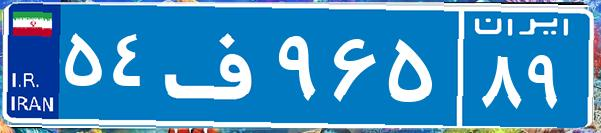4: (110, 28, 158, 105)
5: (385, 28, 445, 110), (57, 26, 110, 107)
6: (330, 28, 385, 110)
8: (475, 38, 525, 113)
9: (273, 28, 330, 110), (525, 38, 570, 115)
ف: (158, 15, 273, 115)
